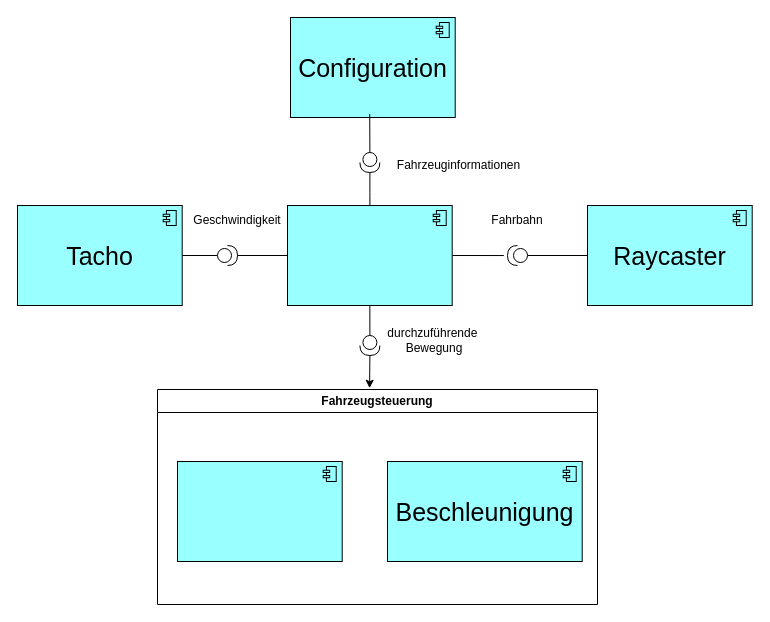
Image size: 770x622. Some labels were removed from this diagram. Here are the shapes that lost their labels. From the top down, the centre of each, then its label:
(369,255): Brain
(259,511): Lenkung
